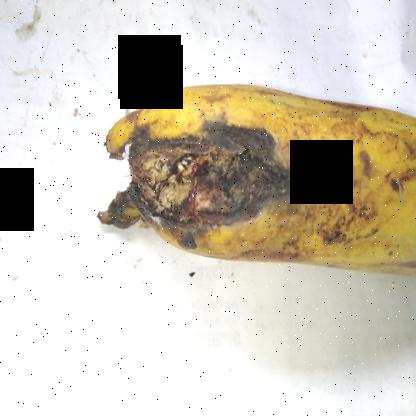ripe: (106, 71, 415, 295)
rotten: (97, 91, 297, 255)
